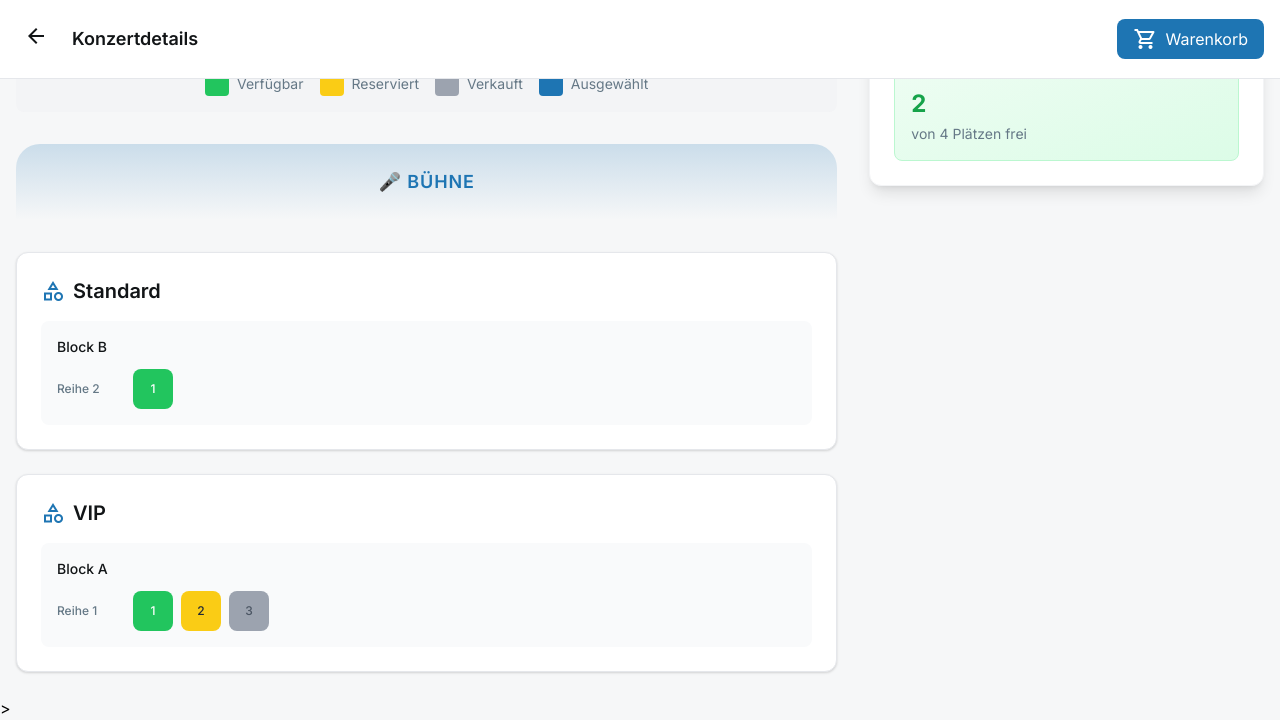
Test: ConcertDetailPage Component › Seat Selection Dialog › closes dialog when cancel button is clicked
The width and height of the screenshot is (1280, 720).
(page scrolled)
Click the 2nd button titled "Reihe 1, Platz 1 - Verfügbar".
click(153, 611)  # box left=133, top=591, right=173, bottom=631
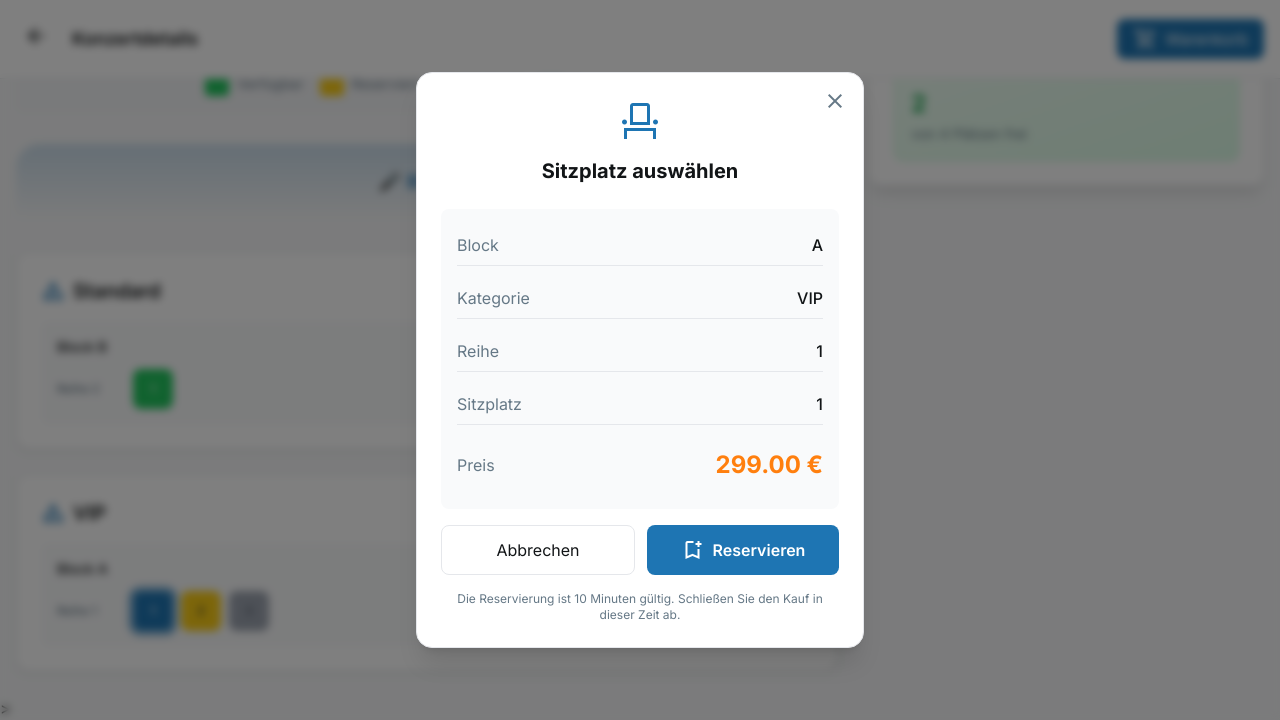
Now the heading "Sitzplatz auswählen" is shown, box left=542, top=159, right=738, bottom=183
Close dialog
Click the button "Abbrechen".
click(538, 550)  # box left=441, top=525, right=635, bottom=575
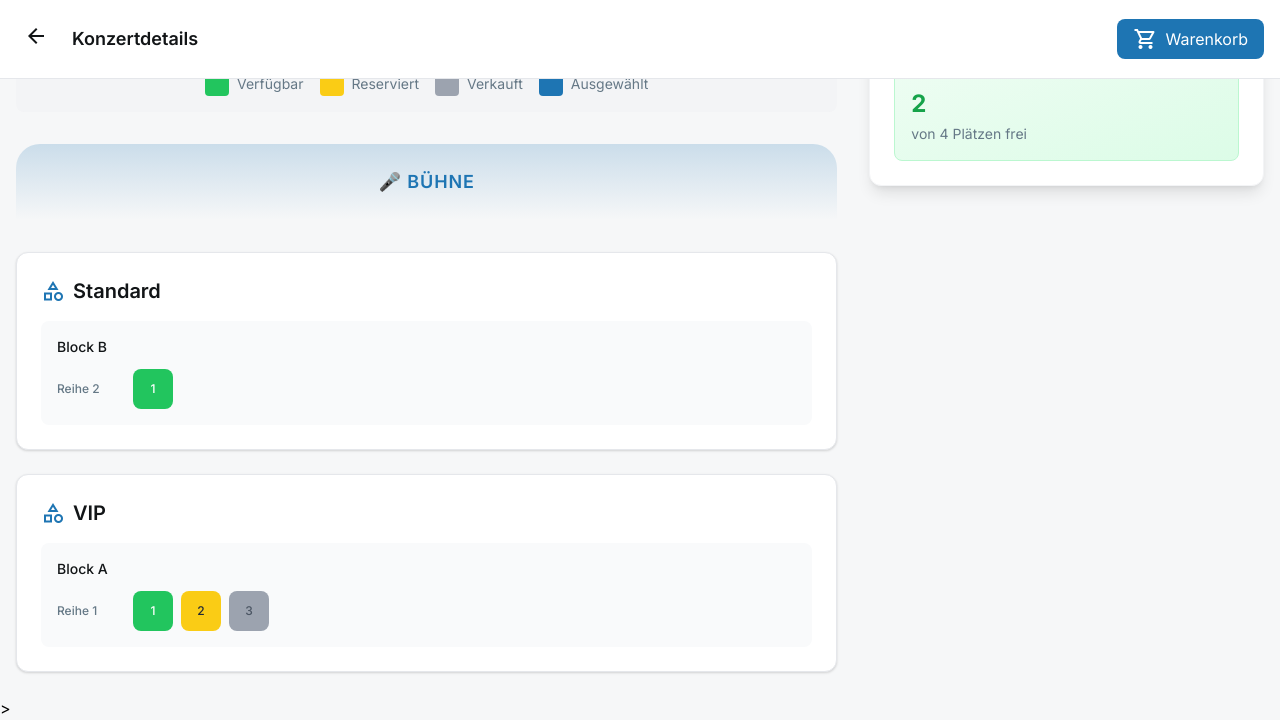
Now the heading "Sitzplatz auswählen" is gone
